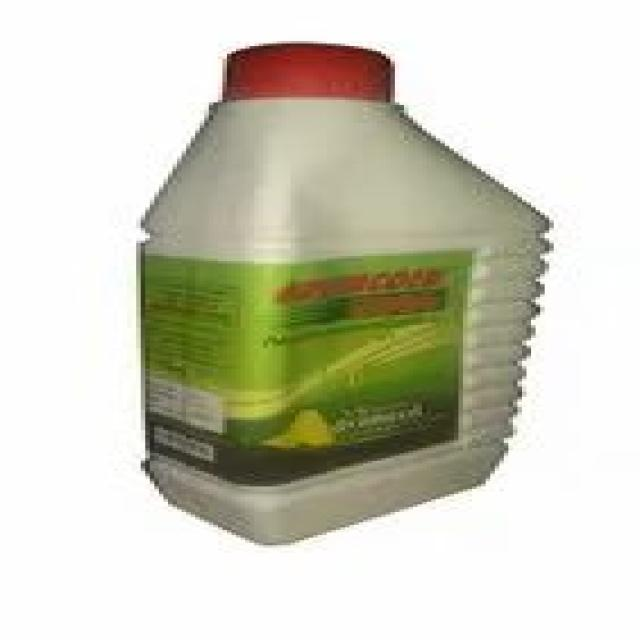coolant: (115, 33, 558, 550)
